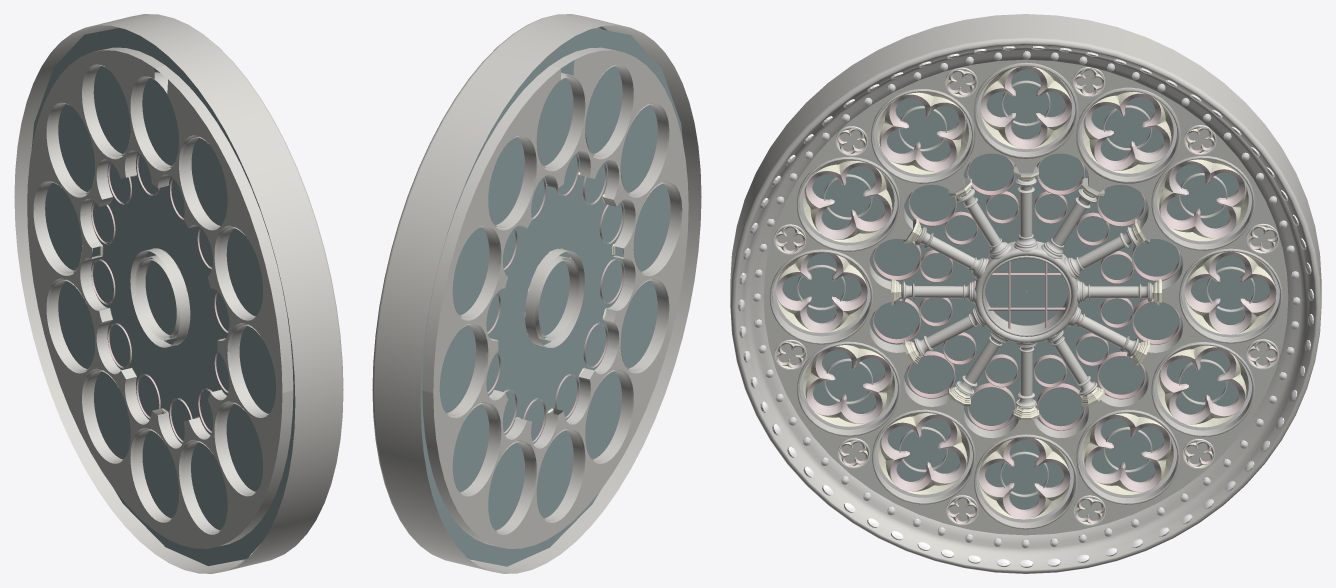
File: roseton_2021_rose_window.glb
3 views of the same model, side by side, from view 1: azimuth 30°, elevation 25°; view 2: azimuth 150°, elevation 25°; view 3: azimuth 270°, elevation 25° (orthographic). The views are drawn at different scales.
Parts seen in each view (by area): view 1: CUERPO1, CRISTAL; view 2: CUERPO1, CRISTAL; view 3: CUERPO1, CRISTAL, OJOS.
Boxes of the visible parts, bbox=[...] form: CUERPO1: bbox=[14, 14, 343, 573]; CRISTAL: bbox=[27, 28, 295, 566]; CUERPO1: bbox=[372, 14, 701, 573]; CRISTAL: bbox=[420, 28, 682, 566]; CUERPO1: bbox=[730, 14, 1321, 573]; CRISTAL: bbox=[772, 69, 1269, 509]; OJOS: bbox=[772, 66, 1279, 522].
Bounding box in the file's own units: 1.35 × 13.2 × 13.2.
